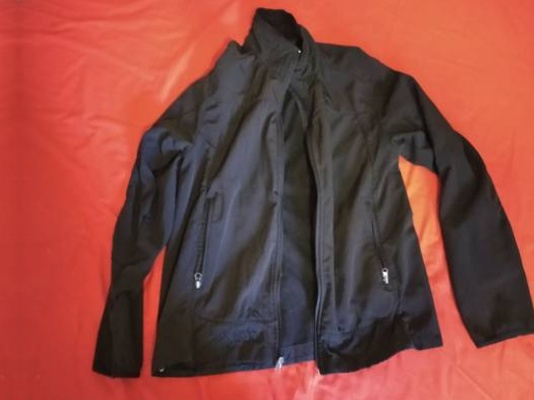Blazer: (78, 22, 534, 393)
